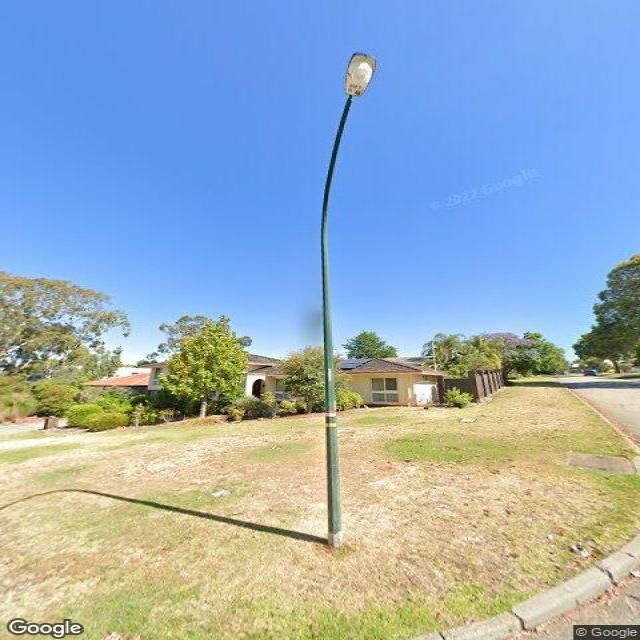steel-pole: (318, 226, 346, 550)
streetlight: (320, 51, 379, 232)
